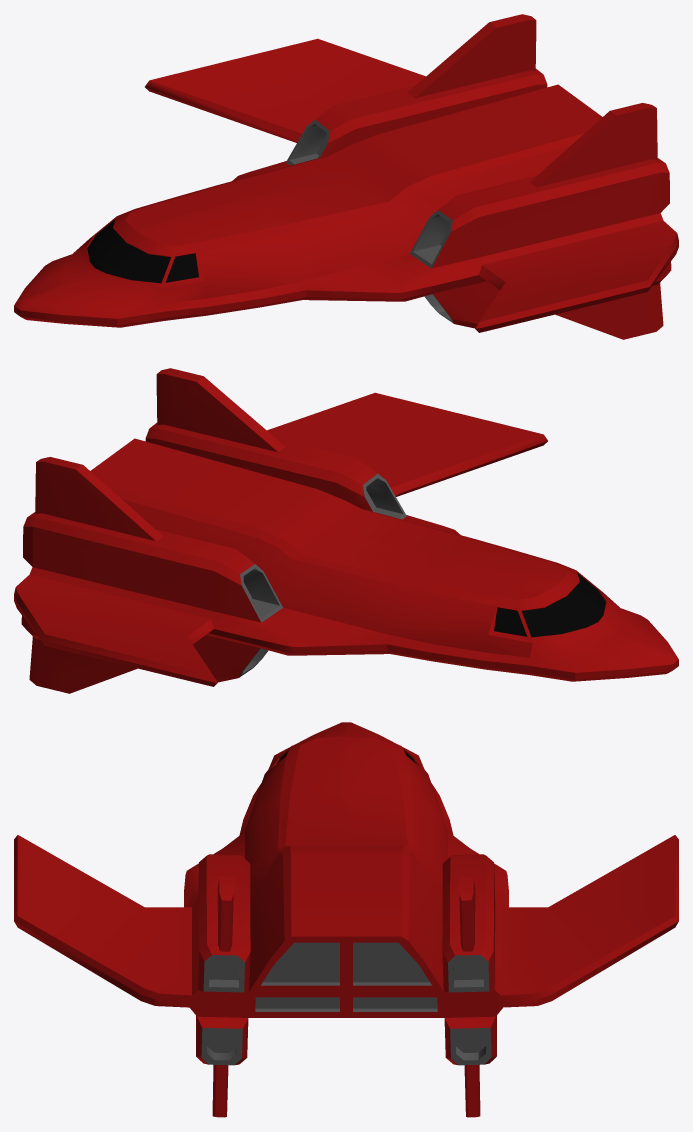
The model's file is ShipEnemyL1E1.FBX.
3 renders of one model, top to bottom at view 1: azimuth 30°, elevation 25°; view 2: azimuth 150°, elevation 25°; view 3: azimuth 270°, elevation 25°, orthographic.
Parts seen in each view (by area): view 1: Ship Short 2; view 2: Ship Short 2; view 3: Ship Short 2.
Part boxes in pixels (x1,y1,x2,y2): Ship Short 2: (14, 14, 678, 339); Ship Short 2: (14, 368, 678, 693); Ship Short 2: (14, 722, 678, 1117).
Size of the model in its own units: 502 by 184 by 499.
